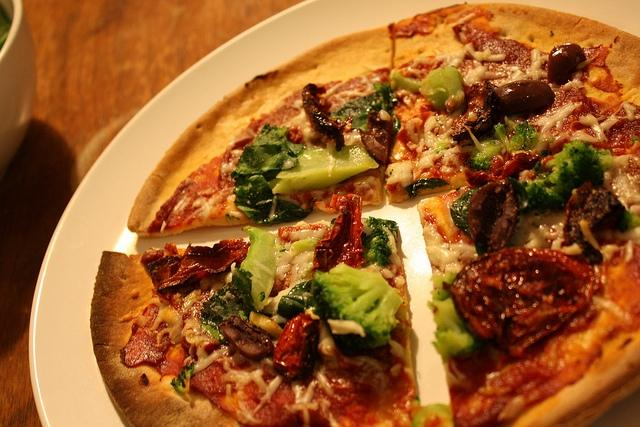broccoli: (200, 225, 278, 345), (311, 262, 403, 349), (526, 138, 614, 214), (267, 142, 380, 196), (428, 272, 483, 362), (450, 181, 493, 256), (419, 66, 466, 112), (361, 216, 398, 269), (492, 121, 538, 154), (471, 140, 502, 172)
